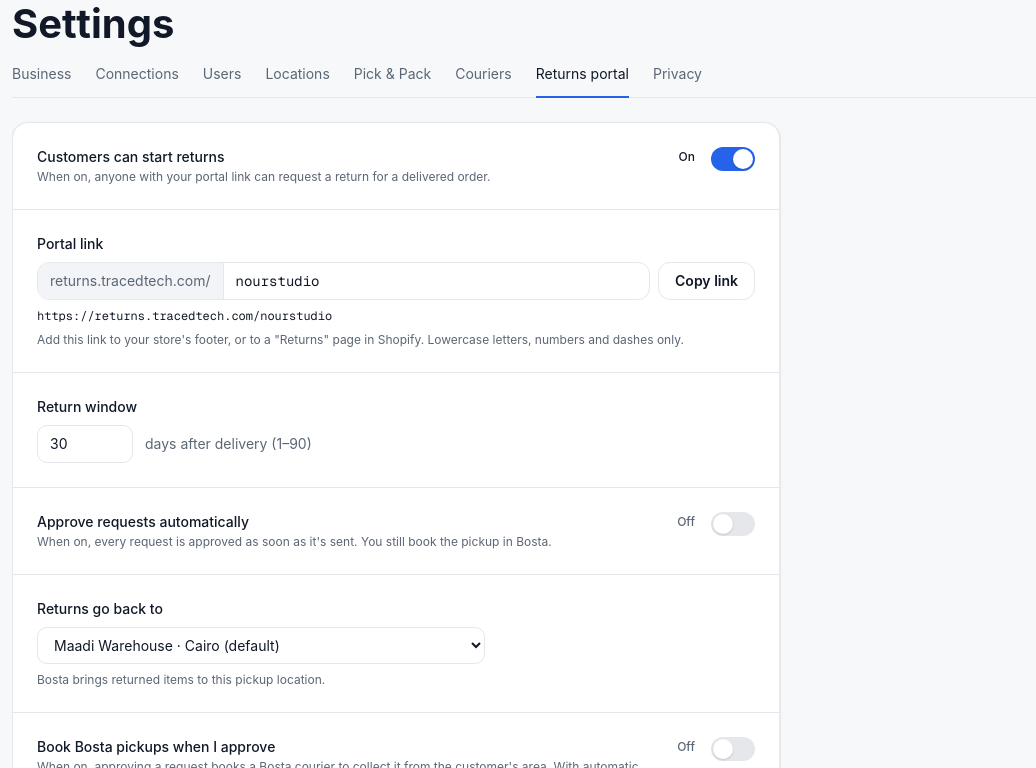
Test: Settings → Book Bosta pickups when I approve › backend refuses (409) → the reason under the switch
Expected: the field showing "nourstudio" is shown, [224, 263, 649, 299]
Click the switch named "Book Bosta pickups when I approve": x=733, y=749 [711, 737, 755, 761]
(page scrolled)
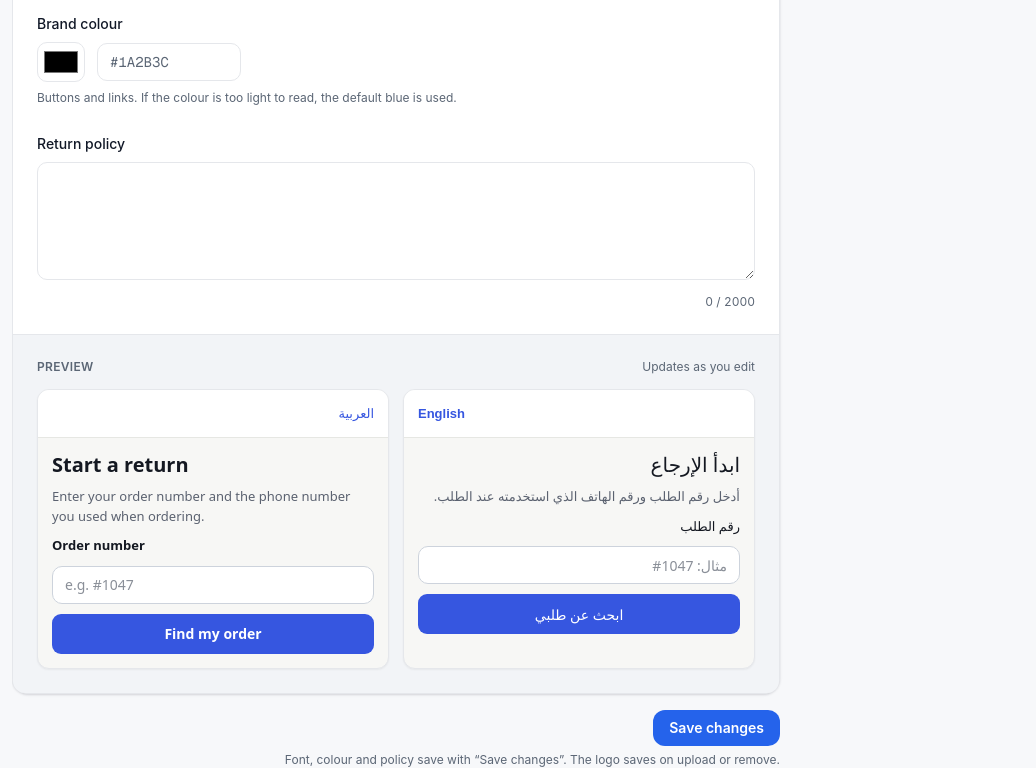
Click the button "Save changes": x=717, y=728 [653, 710, 780, 746]
(page scrolled)
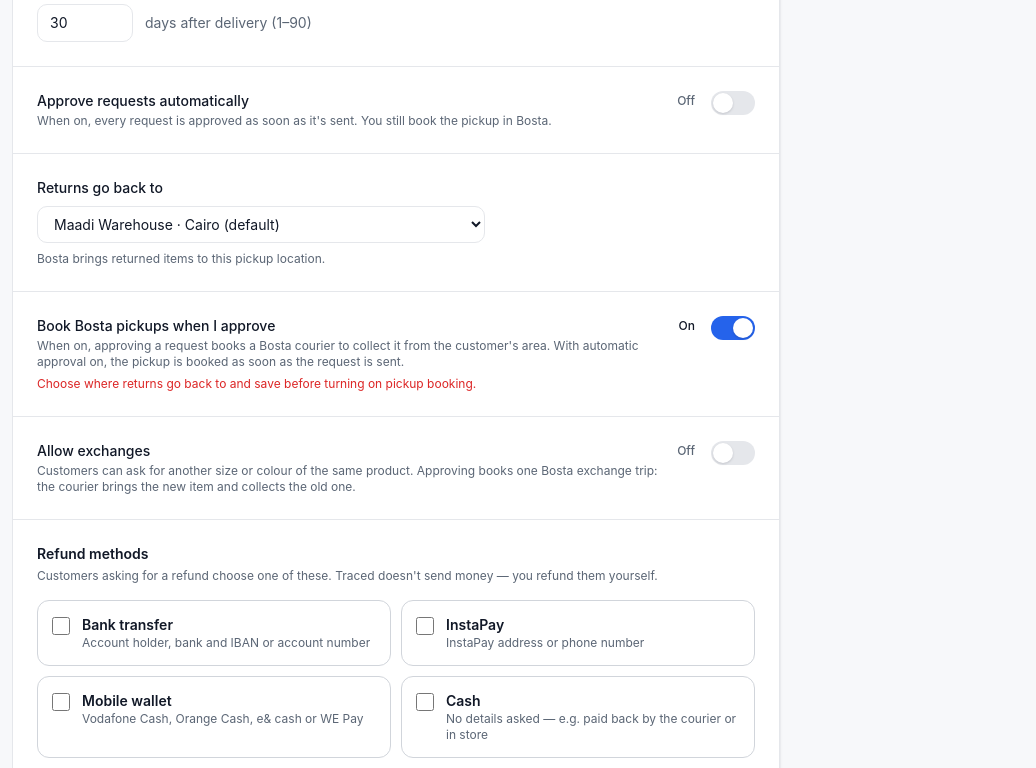
Expected: the message with test id "error-pickupBooking" reads "Choose where returns go back to and save before turning on pickup booking.", [37, 376, 476, 391]
